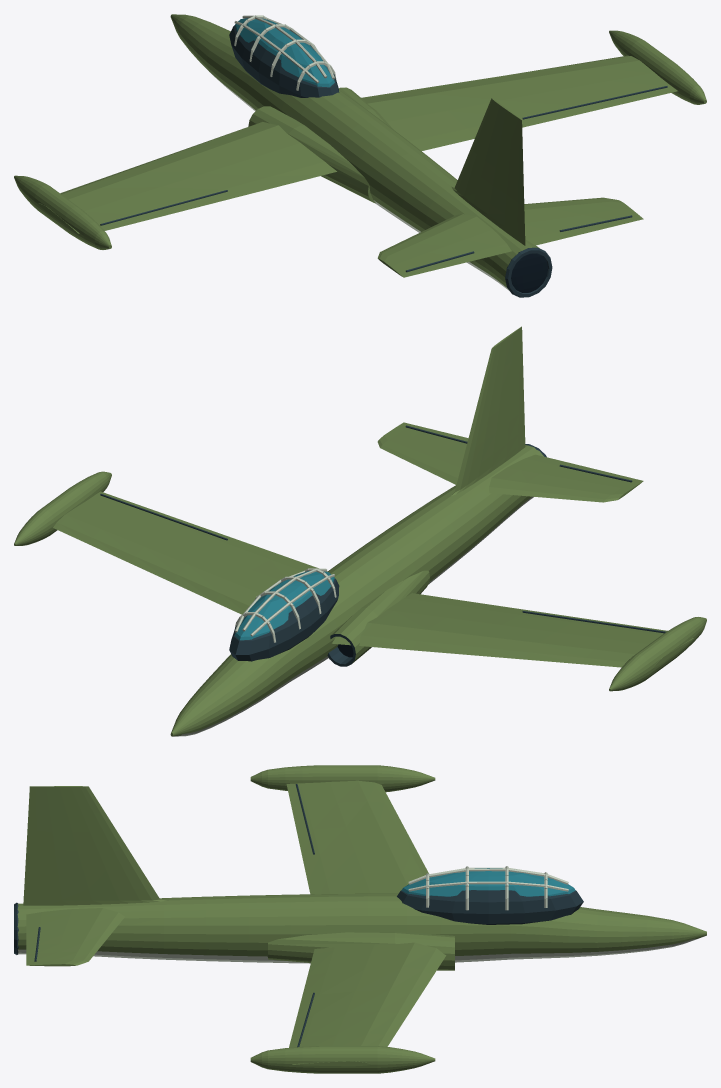
File: archive-mb326.glb
The picture shows the model from 3 angles, top to bottom: view 1: azimuth 30°, elevation 25°; view 2: azimuth 150°, elevation 25°; view 3: azimuth 270°, elevation 25°; orthographic projection. The views are drawn at different scales.
Parts seen in each view (by area): view 1: archive-mb326-fuselage.004-geometry, archive-mb326-wing_0_-1-geometry, archive-mb326-wing_0_1-geometry, archive-mb326-archive-mb326-geometry, archive-mb326-vertical_tail-geometry, archive-mb326-tailplane-geometry, archive-mb326-tailplane.001-geometry, archive-mb326-intake_0-geometry, archive-mb326-wingtip_tank-geometry, archive-mb326-wingtip_tank.002-geometry; view 2: archive-mb326-fuselage.004-geometry, archive-mb326-wing_0_-1-geometry, archive-mb326-wing_0_1-geometry, archive-mb326-archive-mb326-geometry, archive-mb326-vertical_tail-geometry, archive-mb326-tailplane-geometry, archive-mb326-tailplane.001-geometry, archive-mb326-intake_0-geometry, archive-mb326-wingtip_tank-geometry, archive-mb326-wingtip_tank.002-geometry; view 3: archive-mb326-fuselage.004-geometry, archive-mb326-wing_0_1-geometry, archive-mb326-wing_0_-1-geometry, archive-mb326-vertical_tail-geometry, archive-mb326-archive-mb326-geometry, archive-mb326-tailplane.001-geometry, archive-mb326-wingtip_tank.002-geometry, archive-mb326-intake_1-geometry, archive-mb326-wingtip_tank-geometry.
Boxes of the visible parts, x1,y1,x2,y2 form: archive-mb326-fuselage.004-geometry: (170,14,539,290); archive-mb326-wing_0_-1-geometry: (37,122,336,233); archive-mb326-wing_0_1-geometry: (361,55,677,150); archive-mb326-archive-mb326-geometry: (229,15,552,297); archive-mb326-vertical_tail-geometry: (451,98,525,245); archive-mb326-tailplane-geometry: (377,214,511,277); archive-mb326-tailplane.001-geometry: (524,197,643,245); archive-mb326-intake_0-geometry: (248,106,375,203); archive-mb326-wingtip_tank-geometry: (14,175,111,249); archive-mb326-wingtip_tank.002-geometry: (609,30,706,104); archive-mb326-fuselage.004-geometry: (170,445,543,736); archive-mb326-wing_0_-1-geometry: (332,593,693,668); archive-mb326-wing_0_1-geometry: (53,491,327,614); archive-mb326-archive-mb326-geometry: (229,444,546,661); archive-mb326-vertical_tail-geometry: (451,326,525,495); archive-mb326-tailplane-geometry: (489,454,643,502); archive-mb326-tailplane.001-geometry: (377,422,468,484); archive-mb326-intake_0-geometry: (327,570,429,666); archive-mb326-wingtip_tank-geometry: (609,617,706,691); archive-mb326-wingtip_tank.002-geometry: (14,471,111,545); archive-mb326-fuselage.004-geometry: (17,893,706,963); archive-mb326-wing_0_1-geometry: (289,942,446,1066); archive-mb326-wing_0_-1-geometry: (286,780,428,894); archive-mb326-vertical_tail-geometry: (23,786,166,905); archive-mb326-archive-mb326-geometry: (14,866,583,954); archive-mb326-tailplane.001-geometry: (26,908,124,966); archive-mb326-wingtip_tank.002-geometry: (250,1046,435,1073); archive-mb326-intake_1-geometry: (268,931,454,970); archive-mb326-wingtip_tank-geometry: (250,765,435,792).
Bounding box in the file's own units: 5.95 × 1.67 × 6.
